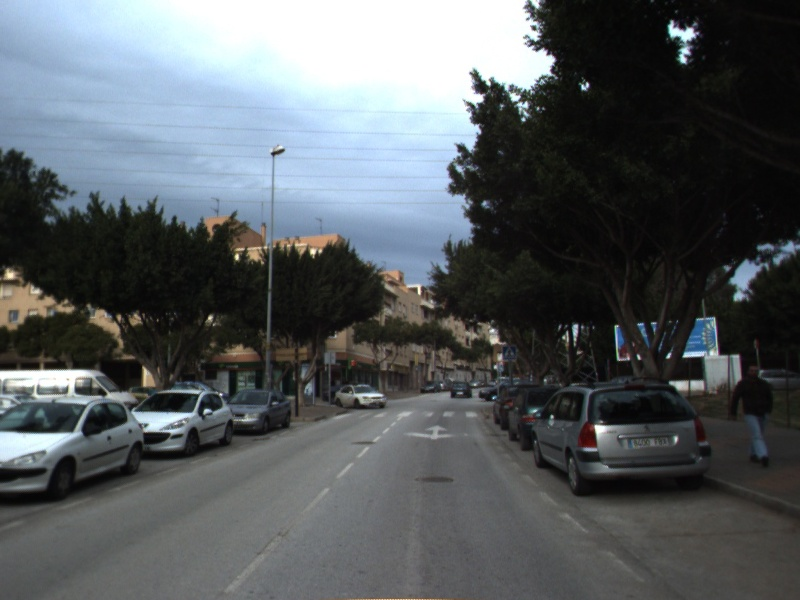STRAIGHT_LEFT_RIGHT: (402, 421, 471, 441)
